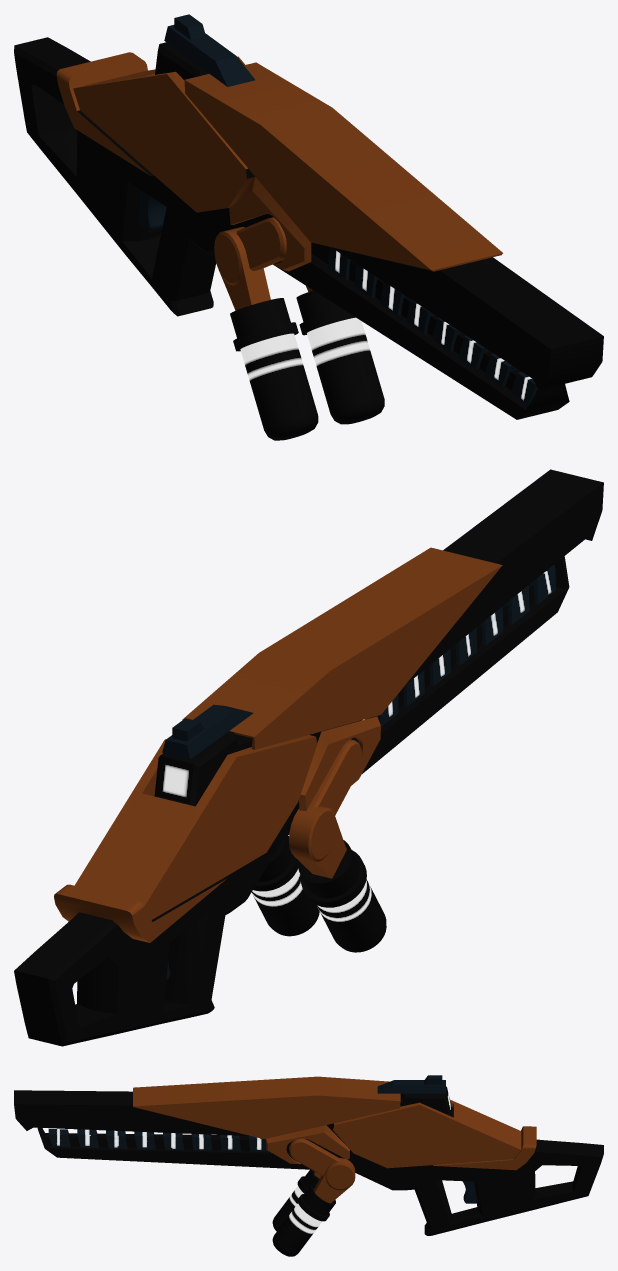
The model's file is SM_Shotgun.fbx.
3 views of the same model, one above another, from view 1: azimuth 30°, elevation 25°; view 2: azimuth 150°, elevation 25°; view 3: azimuth 270°, elevation 25° (orthographic). The views are drawn at different scales.
Visible parts, largest first — view 1: Game_Res1; view 2: Game_Res1; view 3: Game_Res1.
Part boxes in pixels (x1=…): Game_Res1: x1=14, y1=14, x2=603, y2=440; Game_Res1: x1=14, y1=469, x2=603, y2=1046; Game_Res1: x1=14, y1=1075, x2=603, y2=1256.
Bounding box in the file's own units: 16.45 × 39.9 × 126.
Materials: 1 (1 with a texture image).
